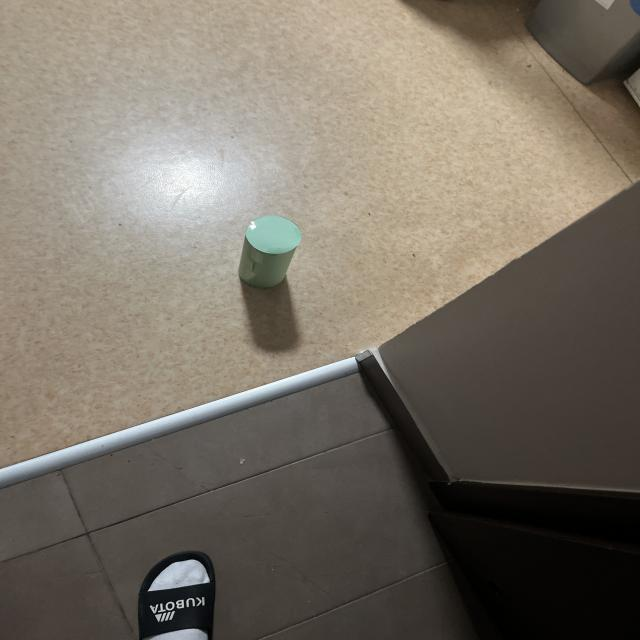meta: (239, 216, 301, 288)
